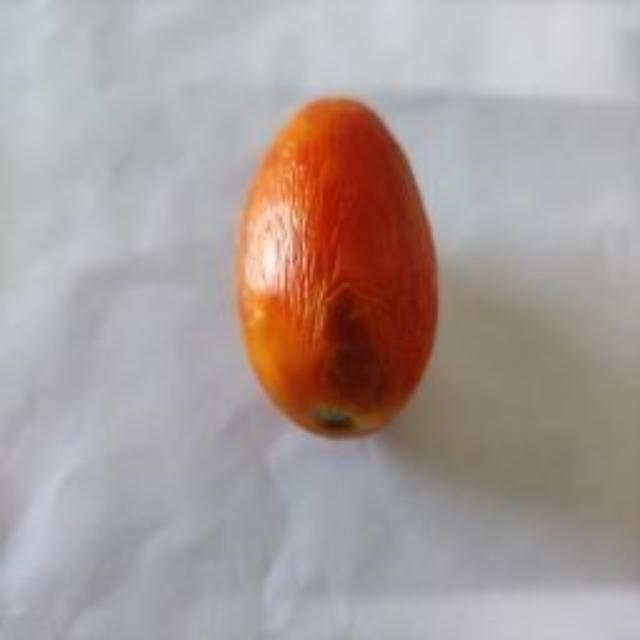defect: (231, 92, 445, 442)
